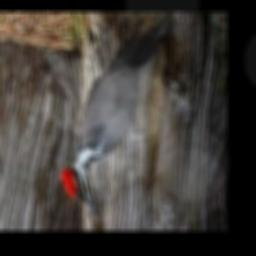Woodpecker: (59, 15, 170, 221)
